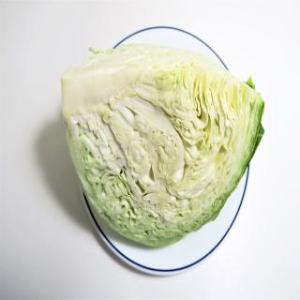cabbage: (59, 42, 266, 250)
